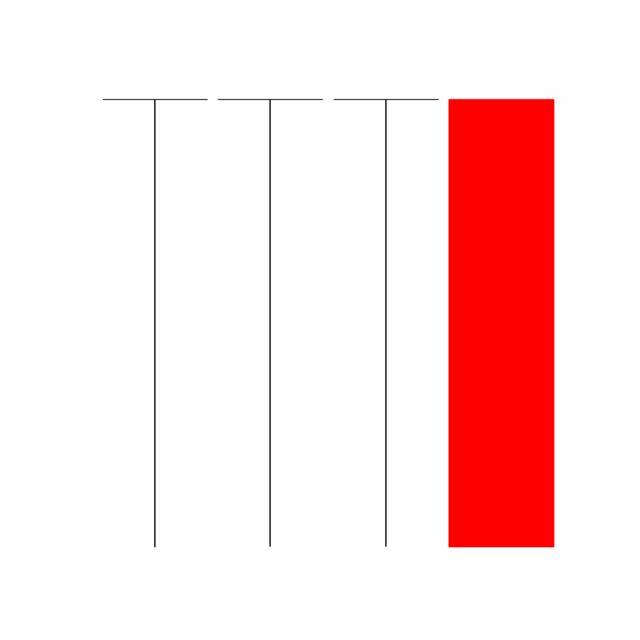Marubozu: (444, 94, 560, 552)
